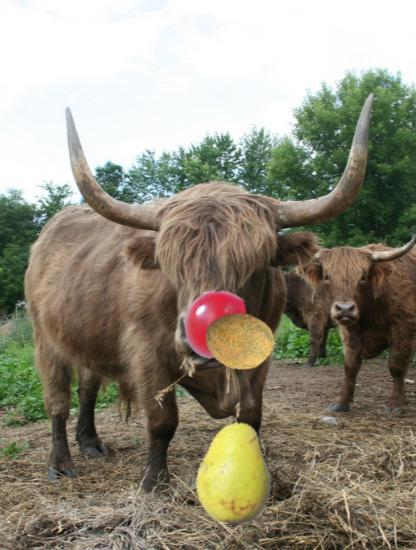Cantaloupe: (205, 306, 275, 376)
Pear: (183, 417, 292, 526)
Redcurrant: (183, 291, 250, 358)
